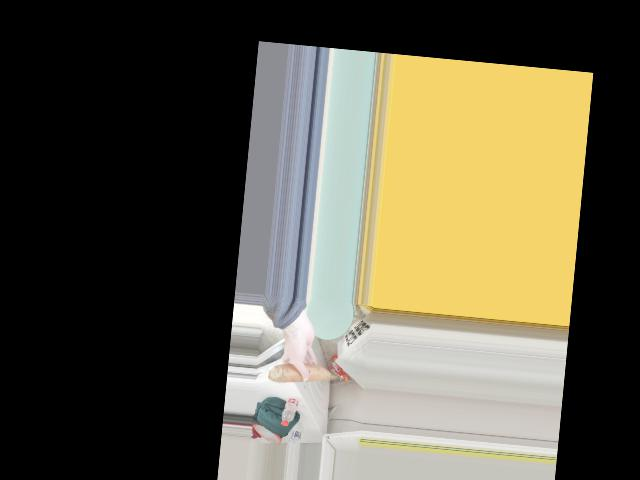sweet_potato: (277, 361, 331, 381)
